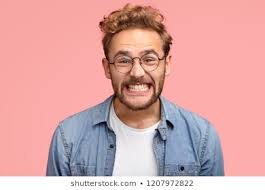white_male: (101, 35, 169, 109)
